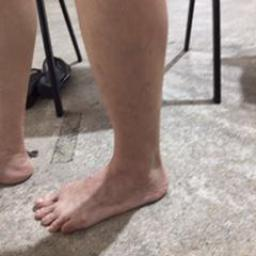Lateral View -Left Foot-: (30, 141, 179, 236)
